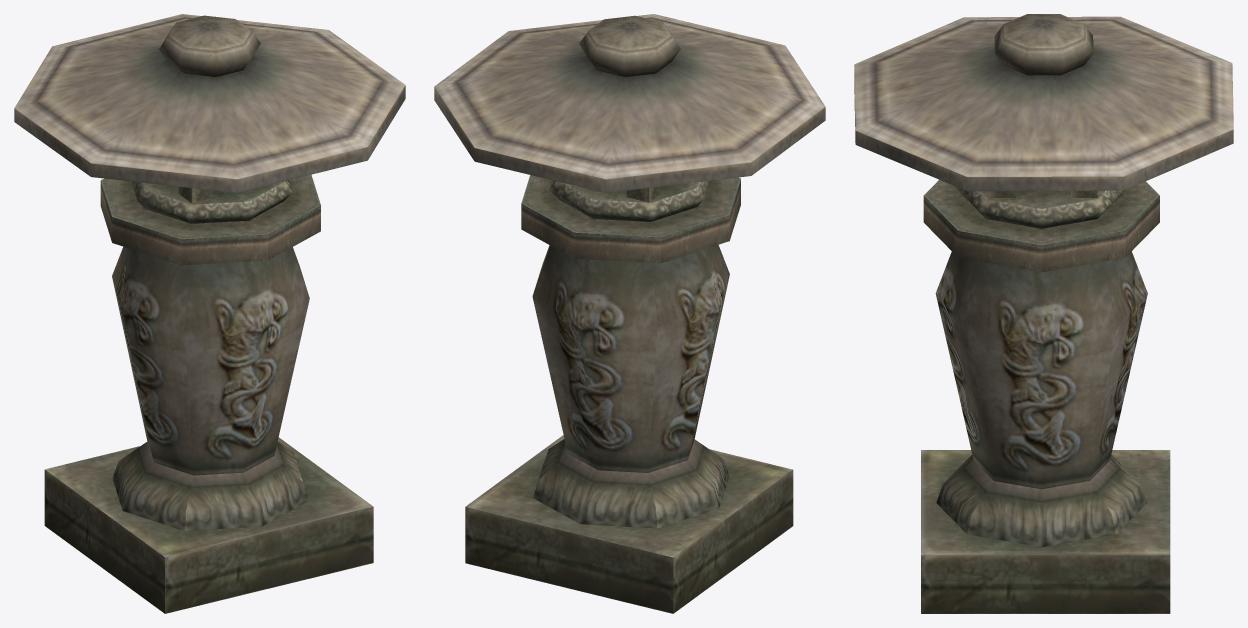
Rendered from shita_dw_41.FBX.
The picture shows the model from 3 angles, left to right: view 1: azimuth 30°, elevation 25°; view 2: azimuth 150°, elevation 25°; view 3: azimuth 270°, elevation 25°; orthographic projection. The views are drawn at different scales.
Parts seen in each view (by area): view 1: shita_dw_41; view 2: shita_dw_41; view 3: shita_dw_41.
Boxes of the visible parts, box(x1,y1,x2,y2) form: shita_dw_41: box(14, 14, 405, 613); shita_dw_41: box(434, 14, 825, 613); shita_dw_41: box(854, 14, 1233, 613).
Size of what is drawn, in the model's own units: 88.18 by 138 by 88.18.
